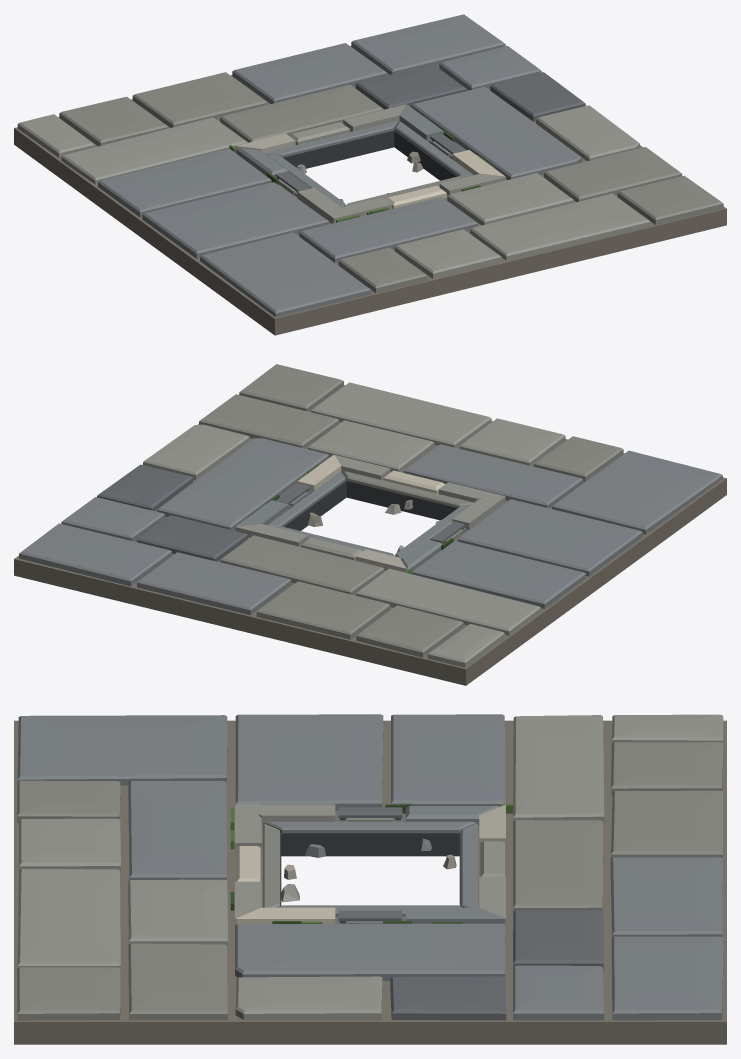
The model's file is SM_LPD_Floor_PavingHatchOpen_01.fbx.
3 views of the same model, one above another, from view 1: azimuth 30°, elevation 25°; view 2: azimuth 150°, elevation 25°; view 3: azimuth 270°, elevation 25° (orthographic). The views are drawn at different scales.
Visible parts, largest first — view 1: SM_LPD_Floor_PavingHatchOpen_01; view 2: SM_LPD_Floor_PavingHatchOpen_01; view 3: SM_LPD_Floor_PavingHatchOpen_01.
Boxes of the visible parts, <box> form: SM_LPD_Floor_PavingHatchOpen_01: <box>14,14,726,335</box>; SM_LPD_Floor_PavingHatchOpen_01: <box>14,364,726,685</box>; SM_LPD_Floor_PavingHatchOpen_01: <box>14,714,726,1044</box>.
Bounding box in the file's own units: 4 × 0.2 × 4.
